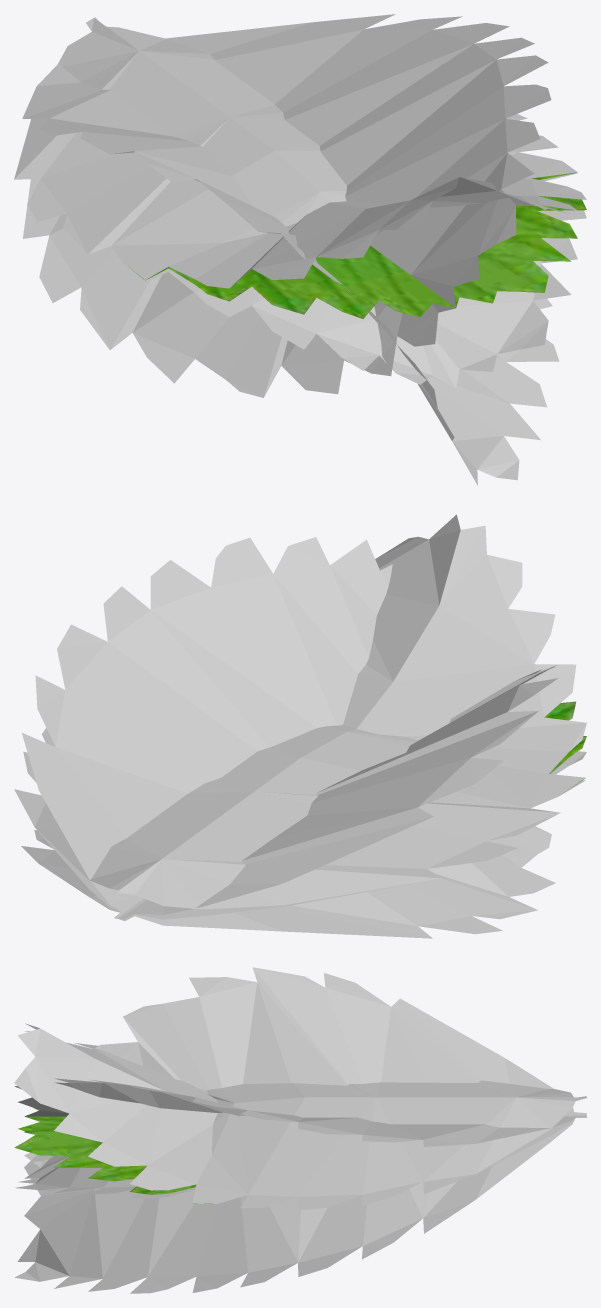
Rendered from leaves_template.dae.
The picture shows the model from 3 angles, top to bottom: view 1: azimuth 30°, elevation 25°; view 2: azimuth 150°, elevation 25°; view 3: azimuth 270°, elevation 25°; orthographic projection. The views are drawn at different scales.
Parts seen in each view (by area): view 1: Plane_002, Plane_003, Plane_004, Plane_001, Plane; view 2: Plane_002, Plane_003, Plane_001, Plane_004, Plane; view 3: Plane_004, Plane_003, Plane_001, Plane_002, Plane.
Part boxes in pixels (x1,y1,x2,y2): Plane_002: [23, 14, 551, 397]; Plane_003: [14, 17, 586, 387]; Plane_004: [22, 64, 559, 485]; Plane_001: [112, 152, 586, 288]; Plane: [129, 172, 586, 318]; Plane_002: [22, 537, 555, 938]; Plane_003: [14, 725, 586, 909]; Plane_001: [35, 514, 586, 919]; Plane_004: [21, 665, 558, 919]; Plane: [544, 701, 586, 789]; Plane_004: [14, 967, 586, 1293]; Plane_003: [15, 1080, 586, 1210]; Plane_001: [14, 1023, 586, 1203]; Plane_002: [14, 1078, 586, 1146]; Plane: [14, 1108, 213, 1203].
Size of the model in its own units: 0.1018 by 0.1374 by 0.0618.
